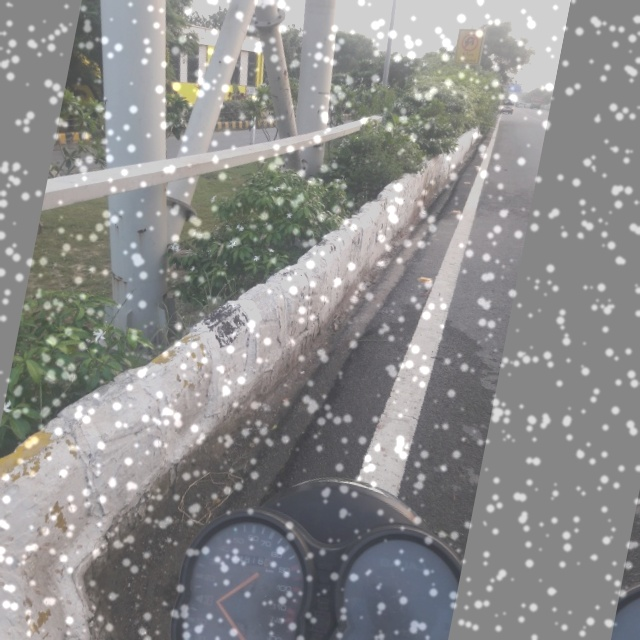U_Turn_Prohibited: (454, 27, 488, 66)
